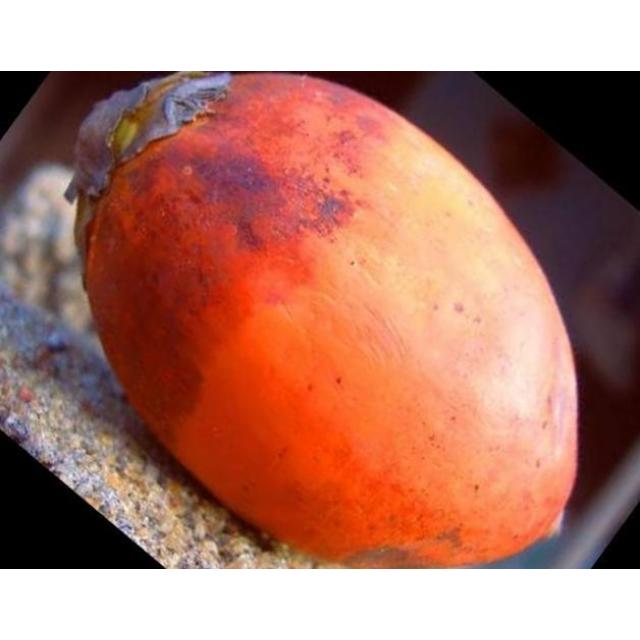good: (68, 71, 581, 568)
